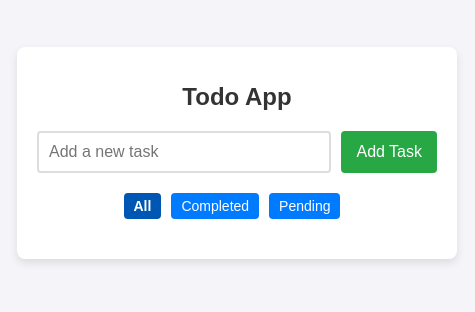
Todo App with localStorage and TaskList › adds a new task
The image size is (475, 312).
Type "Test Task" into the field with placeholder "Add a new task".
click(184, 152); type("Test Task")  # box [37,131,332,173]
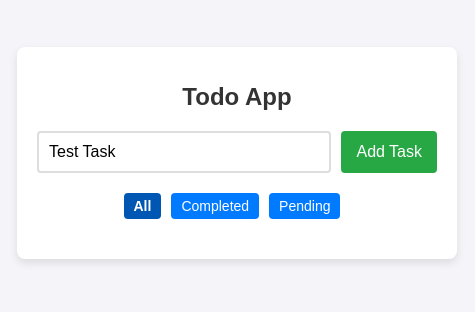
Click the button "Add Task".
click(389, 152)  # box [342,131,437,173]
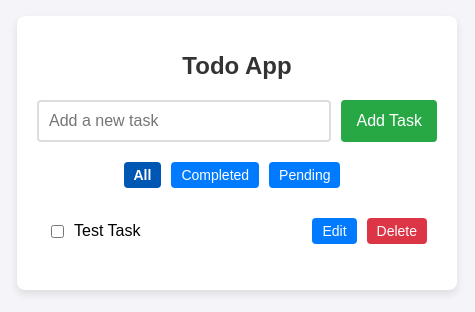
Result: the text "Test Task" is shown at [74,222,140,239]
